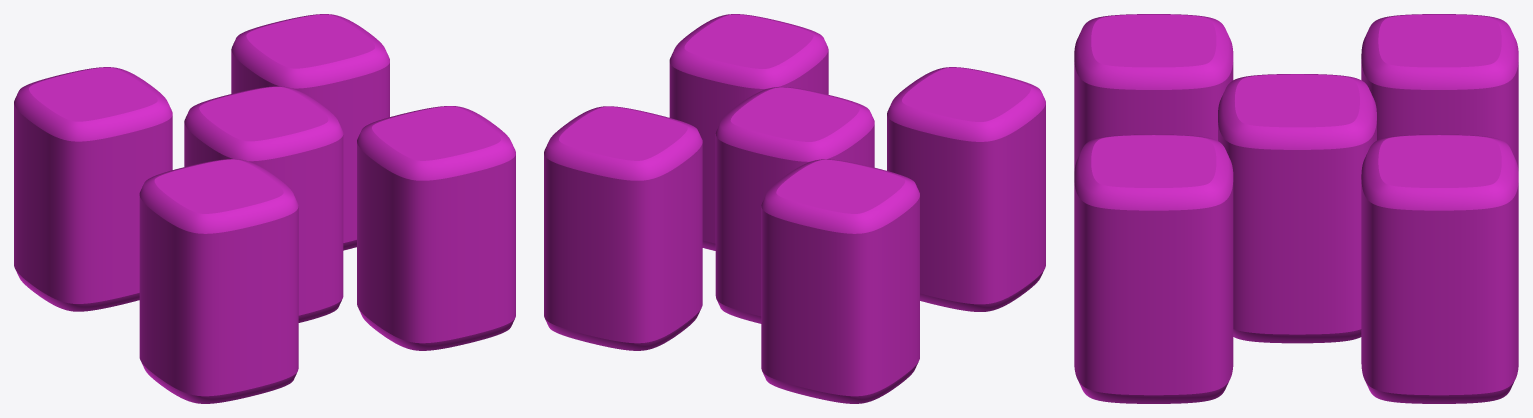
The model's file is Asterisk.fbx.
3 views of the same model, side by side, from view 1: azimuth 30°, elevation 25°; view 2: azimuth 150°, elevation 25°; view 3: azimuth 270°, elevation 25° (orthographic). The views are drawn at different scales.
Visible parts, largest first — view 1: Asterisk; view 2: Asterisk; view 3: Asterisk.
Boxes of the visible parts, <box> form: Asterisk: <box>14,14,515,403</box>; Asterisk: <box>544,14,1045,403</box>; Asterisk: <box>1074,14,1518,403</box>.
Bounding box in the file's own units: 0.2619 × 0.14 × 0.2619.
